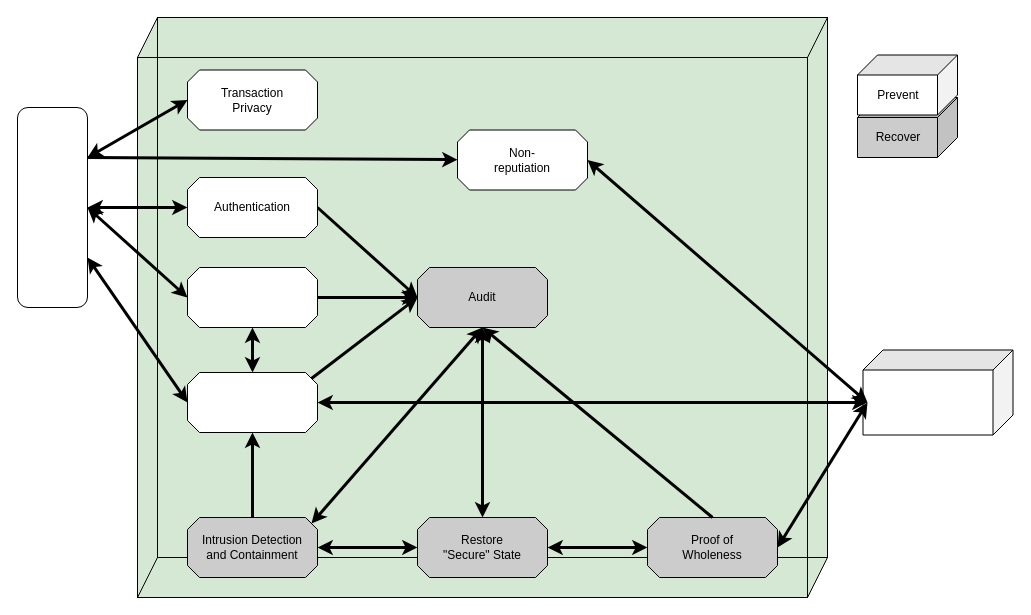
This 1031x615 diagram has some shape labels left out. The box of each missing label's shape, as (x1, y1, x2, y2) in pixels:
Access Control Enforcement: (186, 372, 318, 432)
Authorization: (186, 266, 318, 328)
Resource: (862, 349, 1013, 435)
User or Process: (16, 106, 88, 308)
